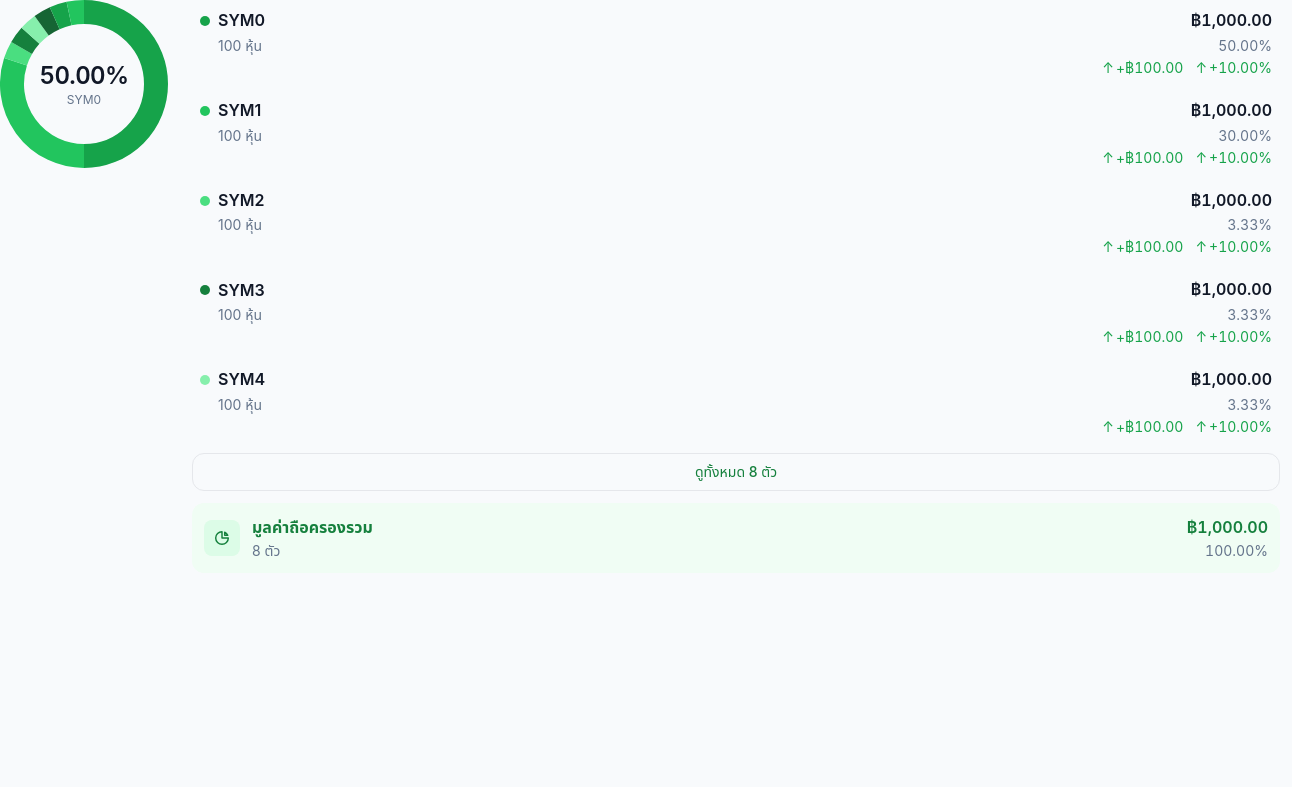
Test: PositionList › reveals the rest in place
The image size is (1292, 787).
Click the button "ดูทั้งหมด 8 ตัว" at {"x": 736, "y": 472}, box [192,453,1280,491]
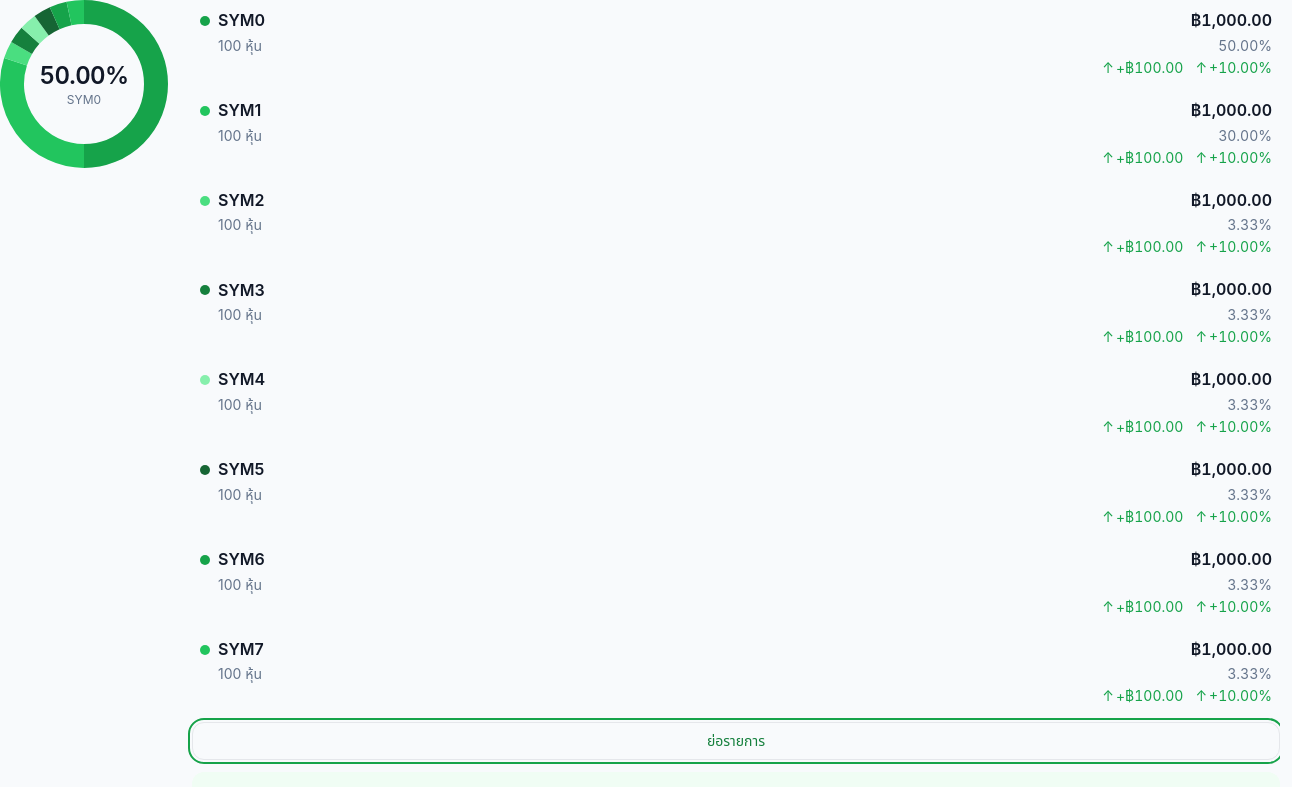
Result: the number of list items is 8
Result: the button "ย่อรายการ" is shown at [192,722,1280,760]
